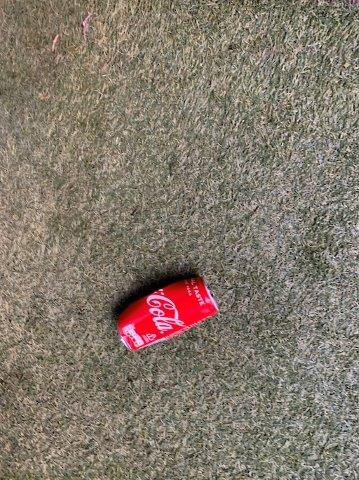kaleng: (118, 278, 218, 352)
